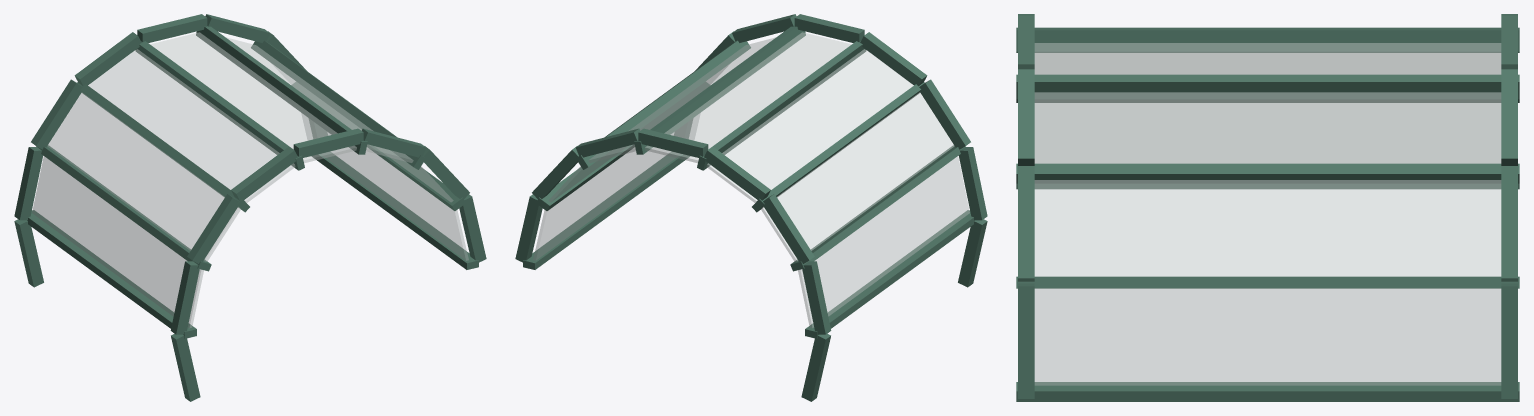
File: botanical-glasshouse-and-palm-house-botanical-glasshou-60f50679__38533.glb
3 views of the same model, side by side, from view 1: azimuth 30°, elevation 25°; view 2: azimuth 150°, elevation 25°; view 3: azimuth 270°, elevation 25° (orthographic). The views are drawn at different scales.
Parts seen in each view (by area): view 1: botanical-glasshouse-and-palm-house-barrel-roof-section; view 2: botanical-glasshouse-and-palm-house-barrel-roof-section; view 3: botanical-glasshouse-and-palm-house-barrel-roof-section.
Boxes of the visible parts, bbox=[...] form: botanical-glasshouse-and-palm-house-barrel-roof-section: bbox=[14, 14, 486, 401]; botanical-glasshouse-and-palm-house-barrel-roof-section: bbox=[515, 14, 987, 401]; botanical-glasshouse-and-palm-house-barrel-roof-section: bbox=[1016, 14, 1519, 401].
Bounding box in the file's own units: 3.3 × 2.31 × 3.
